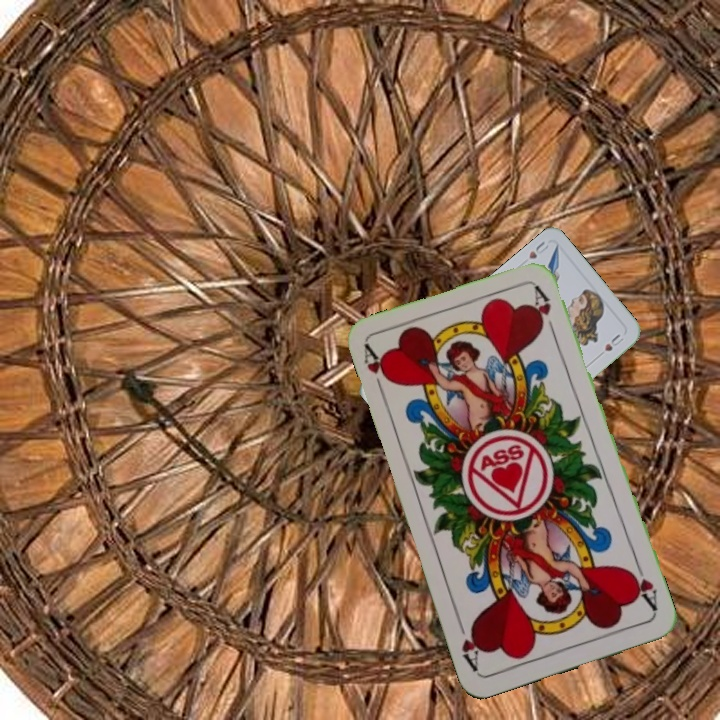HA: (359, 341, 395, 400), (625, 558, 660, 614)
HU: (525, 237, 551, 262)
